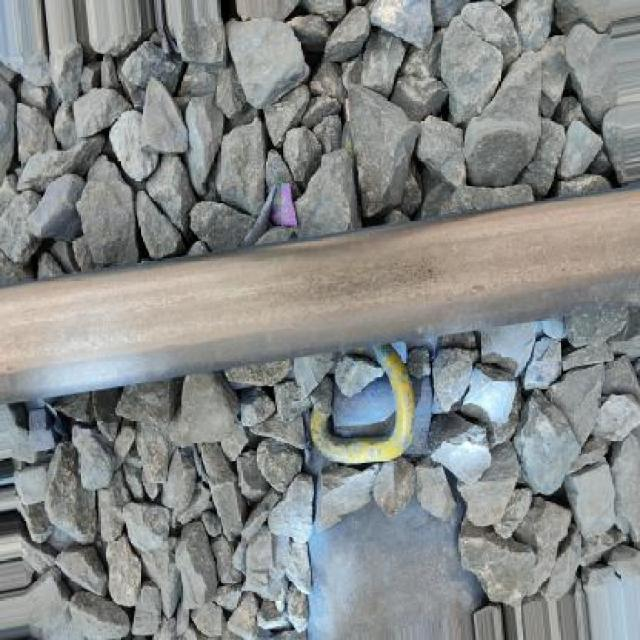non-defective: (4, 169, 640, 485)
